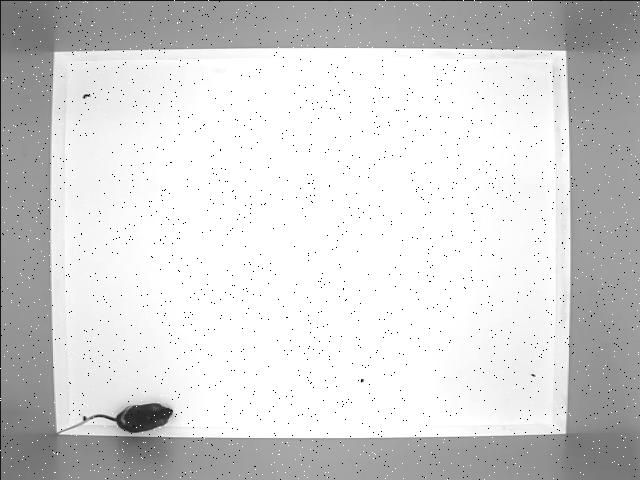Tikus: (40, 398, 176, 440)
